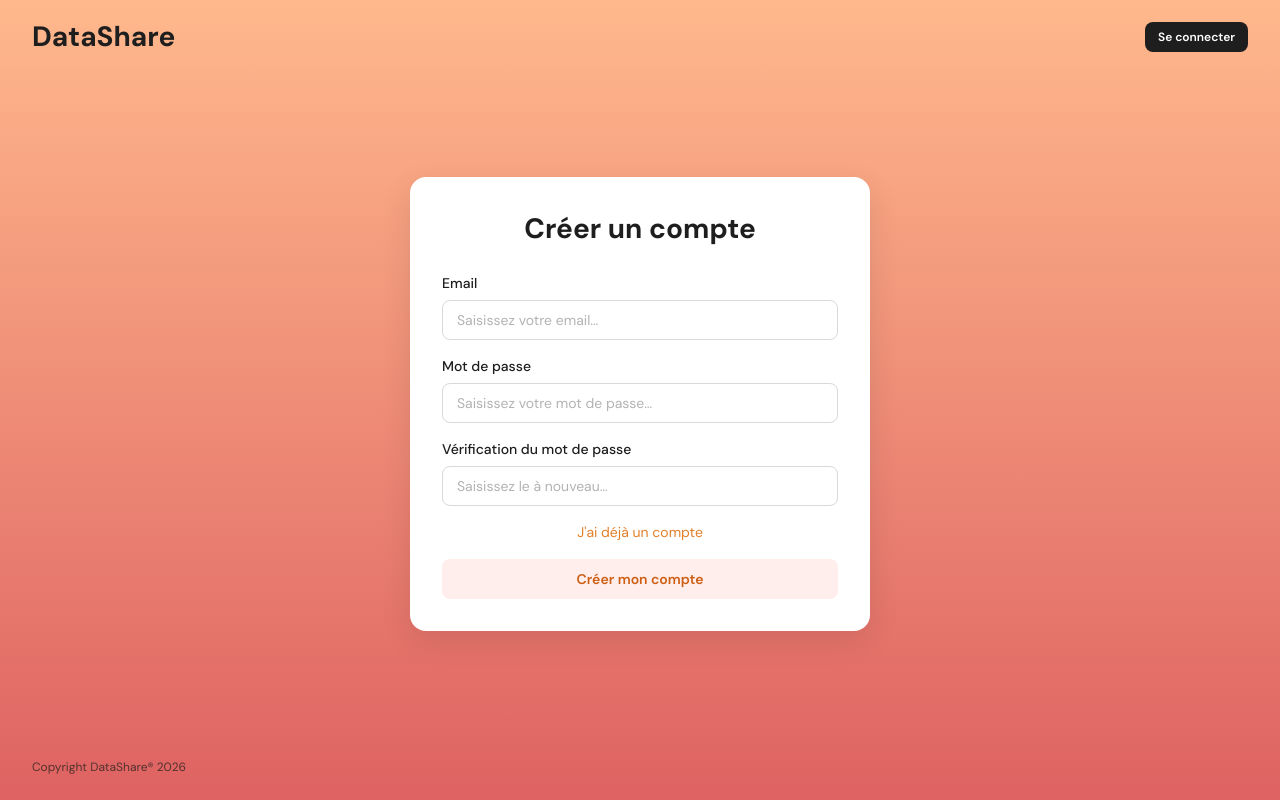
Test: RegisterPage › affiche un message dédié en cas de rate-limit (429)
Type "a@b.fr" into the field labelled "Email" at (640, 320), box left=442, top=300, right=838, bottom=340
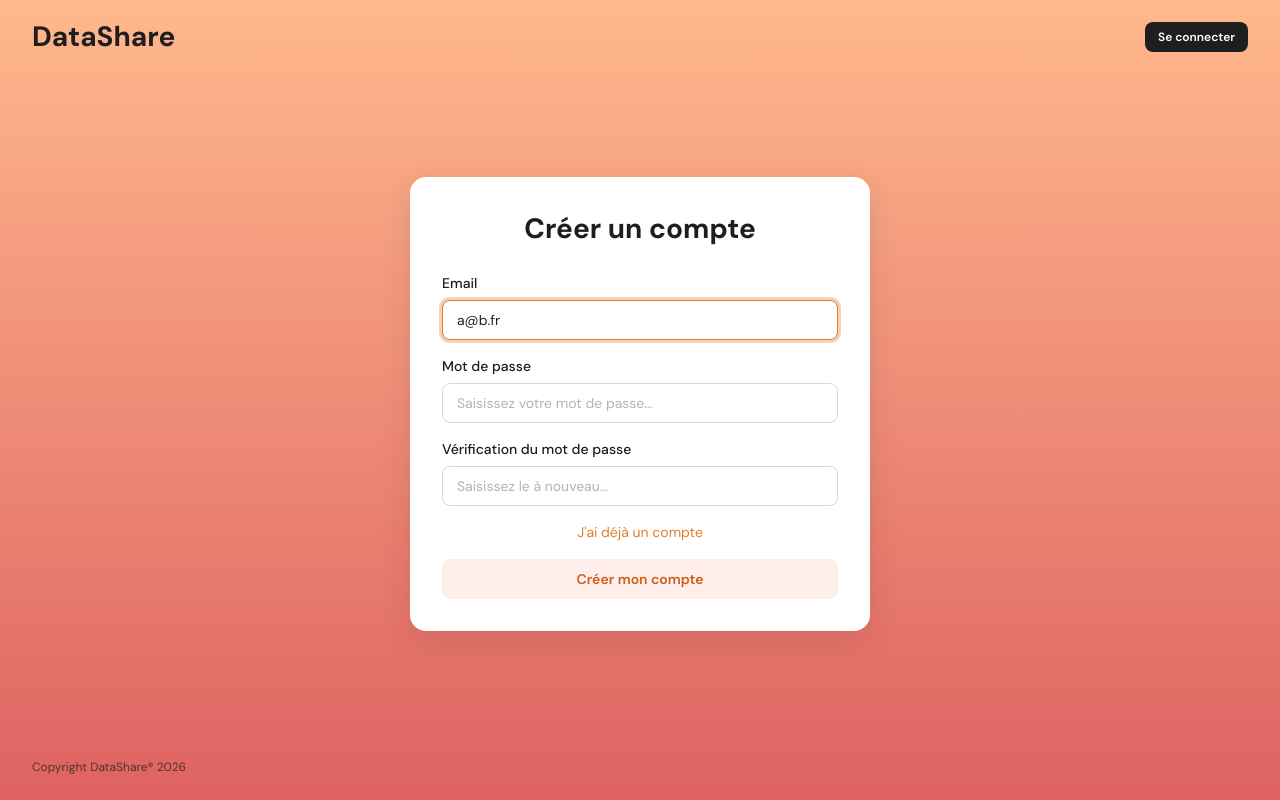
Type "motdepasse" into the password field labelled "Mot de passe" at (640, 403), box left=442, top=383, right=838, bottom=423
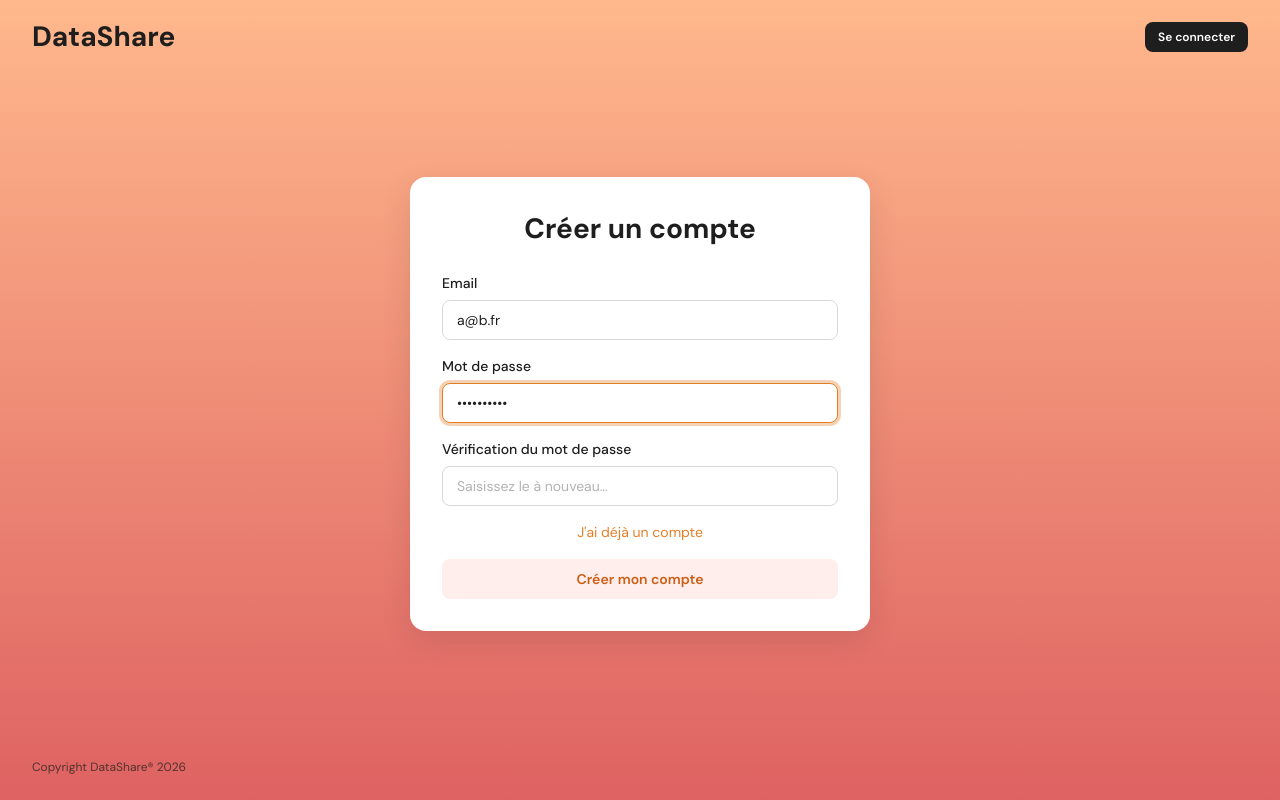
Type "motdepasse" into the password field labelled "Vérification du mot de passe" at (640, 486), box left=442, top=466, right=838, bottom=506
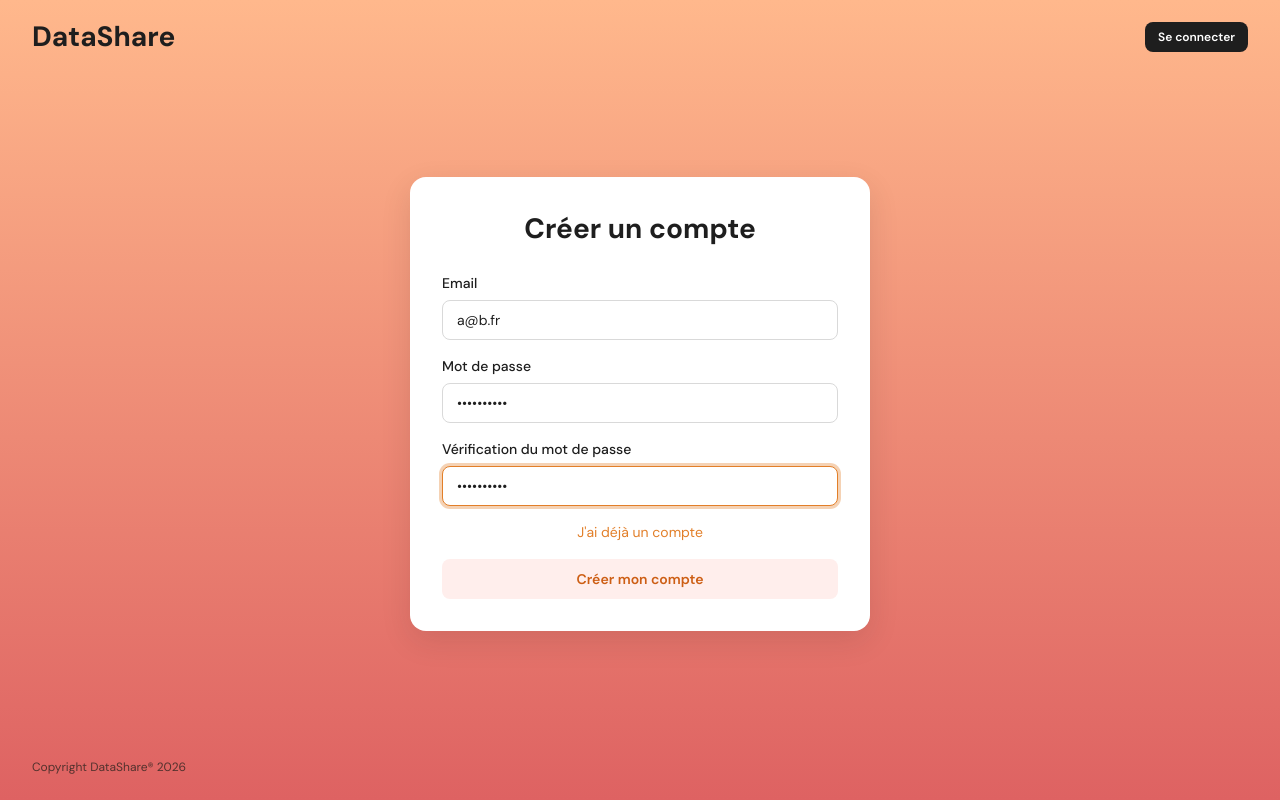
Click the button "Créer mon compte" at (640, 579), box left=442, top=559, right=838, bottom=599
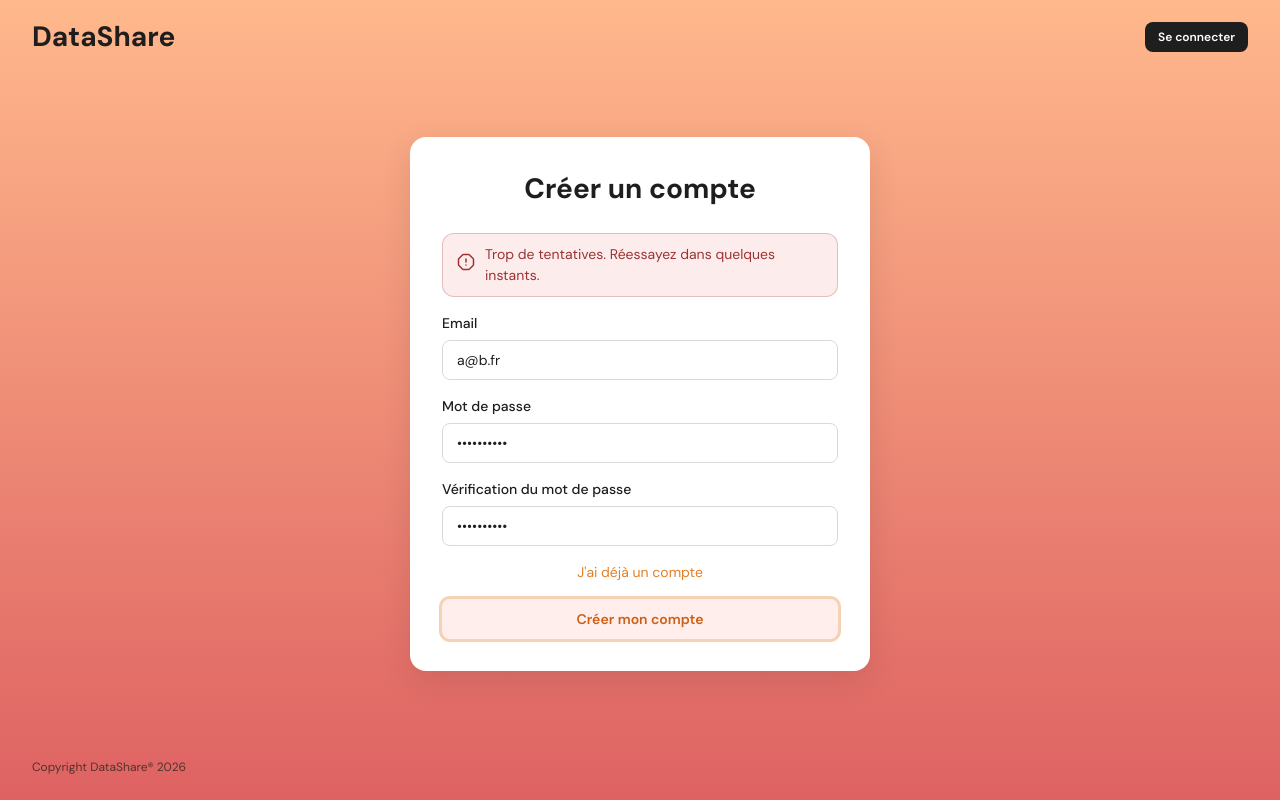
Result: the text "Trop de tentatives. Réessayez dans quelques instants." is shown at left=485, top=244, right=823, bottom=286
